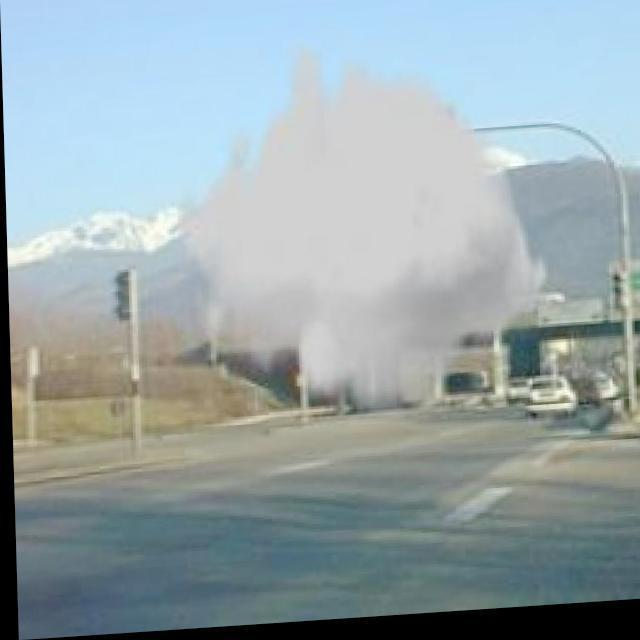Smoke: (180, 40, 549, 434)
